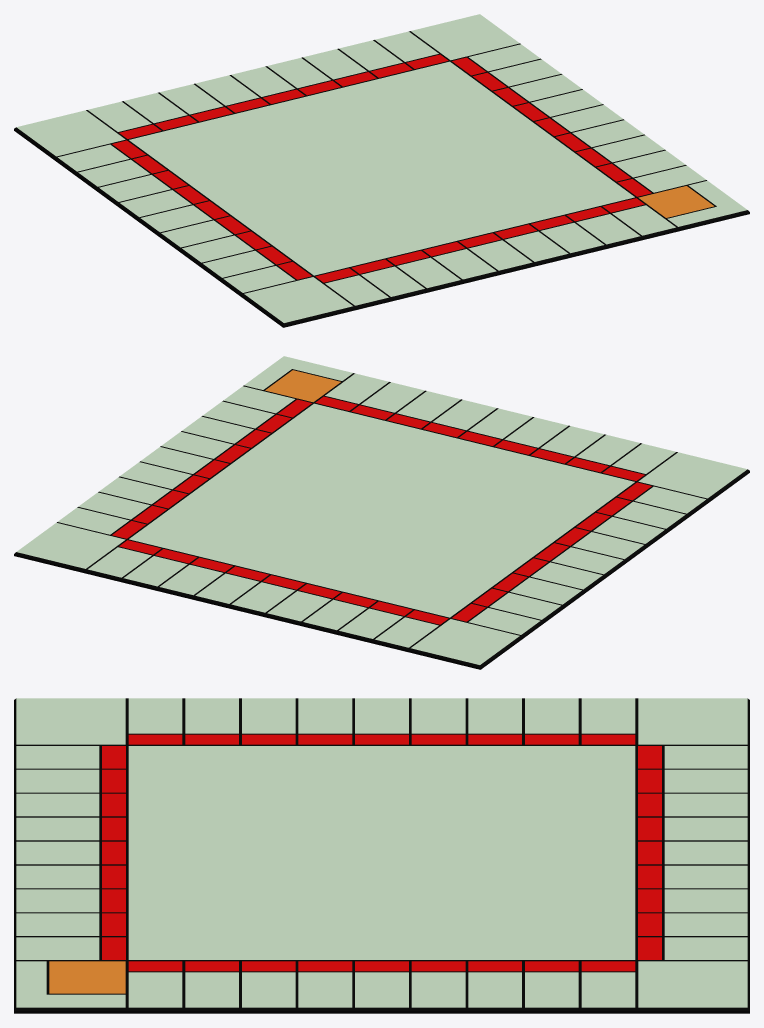
Rendered from Boardv3.fbx.
3 renders of one model, top to bottom at view 1: azimuth 30°, elevation 25°; view 2: azimuth 150°, elevation 25°; view 3: azimuth 270°, elevation 25°, orthographic. The views are drawn at different scales.
Parts seen in each view (by area): view 1: CenterField, CornerParking, CornerVisit, CornerJail, CornerGo, SideField.012, SideField.011, SideField.013, SideField.010, SideField.014, SideField.016, SideField.018 (+29 smaller); view 2: CenterField, CornerJail, CornerGo, CornerParking, CornerVisit, SideField.034, SideField.033, SideField.035, SideField, SideField.036, SideField.030, SideField.028 (+29 smaller); view 3: CenterField, CornerGo, CornerVisit, CornerJail, CornerParking, SideField.005, SideField.001, SideField.003, SideField.004, SideField.006, SideField.007, SideField.009 (+29 smaller).
Boxes of the visible parts, box(x1,y1,x2,y2) form: CenterField: box(127, 61, 636, 275); CornerParking: box(242, 276, 355, 327); CornerVisit: box(637, 180, 749, 231); CornerJail: box(14, 110, 126, 160); CornerGo: box(410, 14, 520, 60); SideField.012: box(529, 215, 606, 257); SideField.011: box(565, 206, 642, 248); SideField.013: box(493, 224, 570, 266); SideField.010: box(601, 197, 678, 240); SideField.014: box(457, 232, 534, 275); SideField.016: box(386, 250, 462, 292); SideField.018: box(314, 267, 390, 310); CenterField: box(127, 403, 636, 617); CornerJail: box(408, 618, 521, 669); CornerGo: box(14, 522, 126, 573); CornerParking: box(637, 452, 749, 502); CornerVisit: box(243, 356, 353, 402); SideField.034: box(157, 557, 234, 599); SideField.033: box(193, 566, 270, 608); SideField.035: box(121, 548, 198, 590); SideField: box(229, 574, 306, 617); SideField.036: box(85, 539, 162, 582); SideField.030: box(301, 592, 377, 634); SideField.028: box(373, 609, 449, 652); CenterField: box(127, 745, 636, 960); CornerGo: box(636, 960, 749, 1013); CornerVisit: box(14, 960, 127, 1013); CornerJail: box(636, 698, 749, 747); CornerParking: box(14, 698, 127, 747); SideField.005: box(353, 960, 410, 1013); SideField.001: box(580, 960, 636, 1013); SideField.003: box(467, 960, 523, 1013); SideField.004: box(410, 960, 466, 1013); SideField.006: box(297, 960, 353, 1013); SideField.007: box(240, 960, 296, 1013); SideField.009: box(127, 960, 183, 1013).
Size of the model in its own units: 2600 by 20 by 2600.
